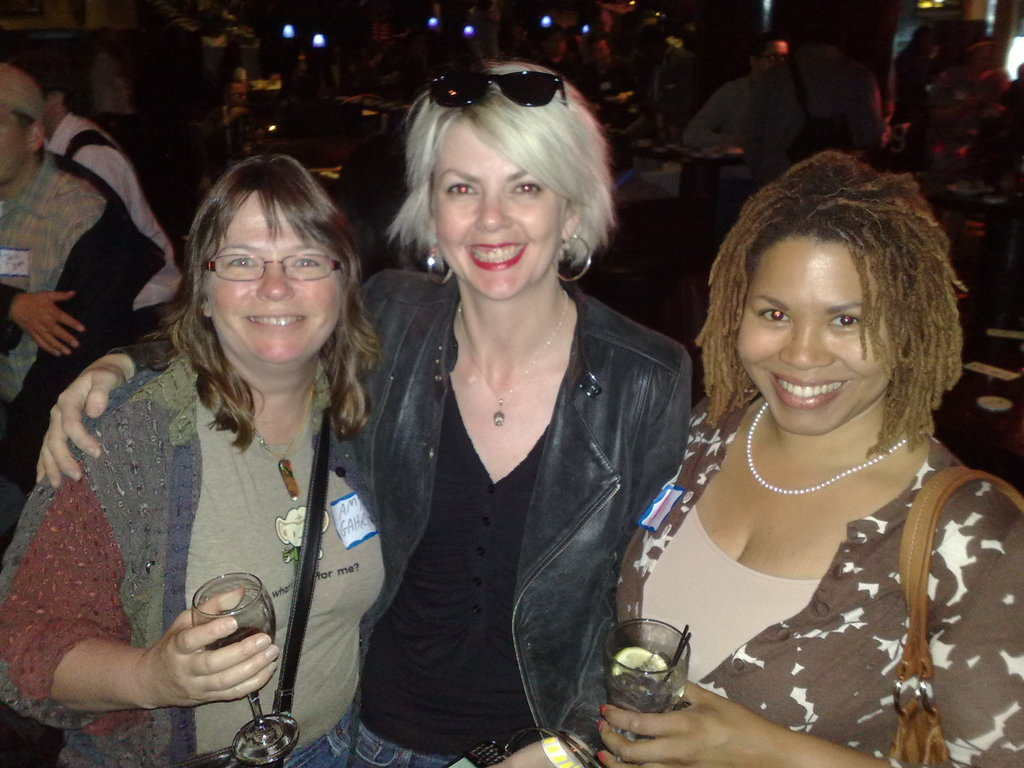Human_hand: (82, 585, 273, 721), (596, 669, 769, 767), (33, 359, 133, 492), (12, 290, 86, 362), (483, 744, 575, 767)
